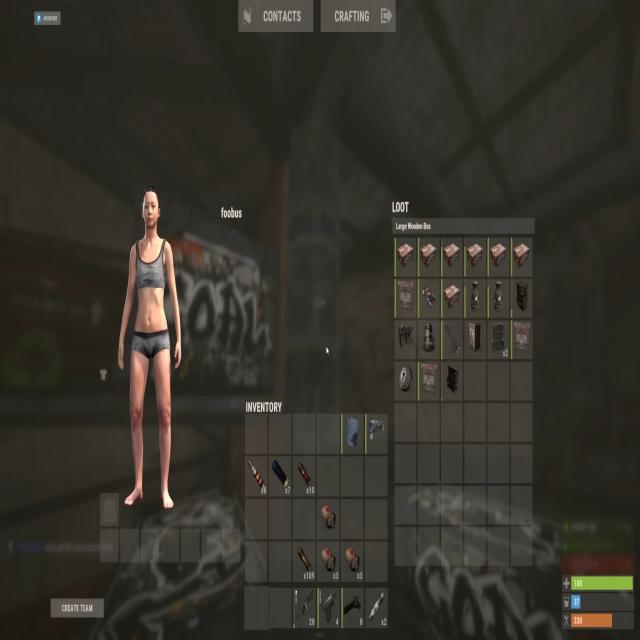Player: (116, 182, 182, 513)
